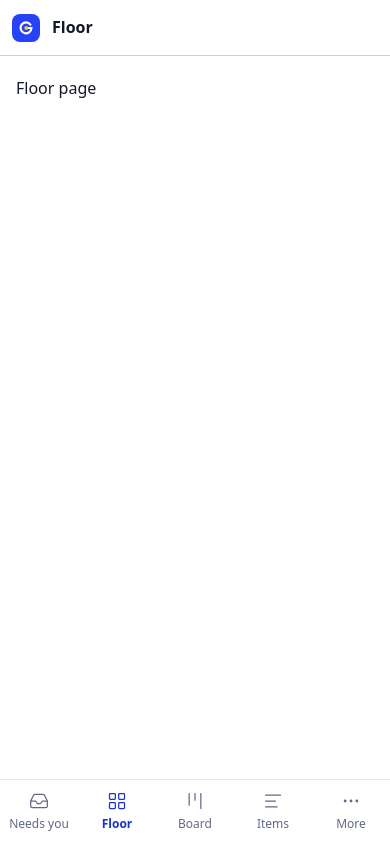
it: the drawer › opens from the Goal mark and names the organization
Click the button named "Open menu" at (26, 28), box [4,6,48,50]
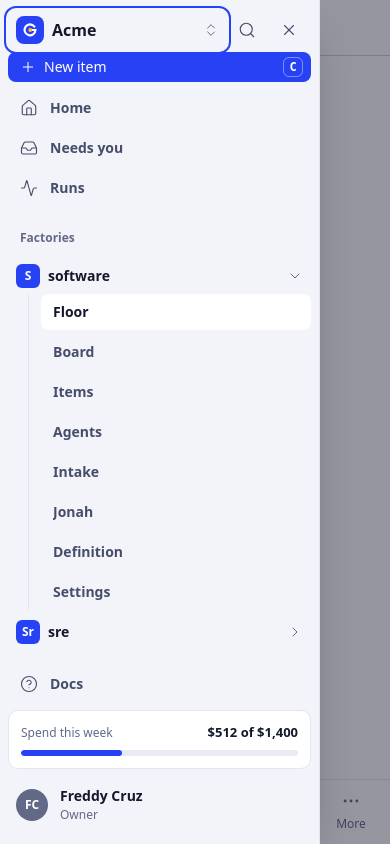
Expected: the button "New item C" is shown, [8,52,311,82]
Expected: the link "Home" is shown, [20,98,91,117]
